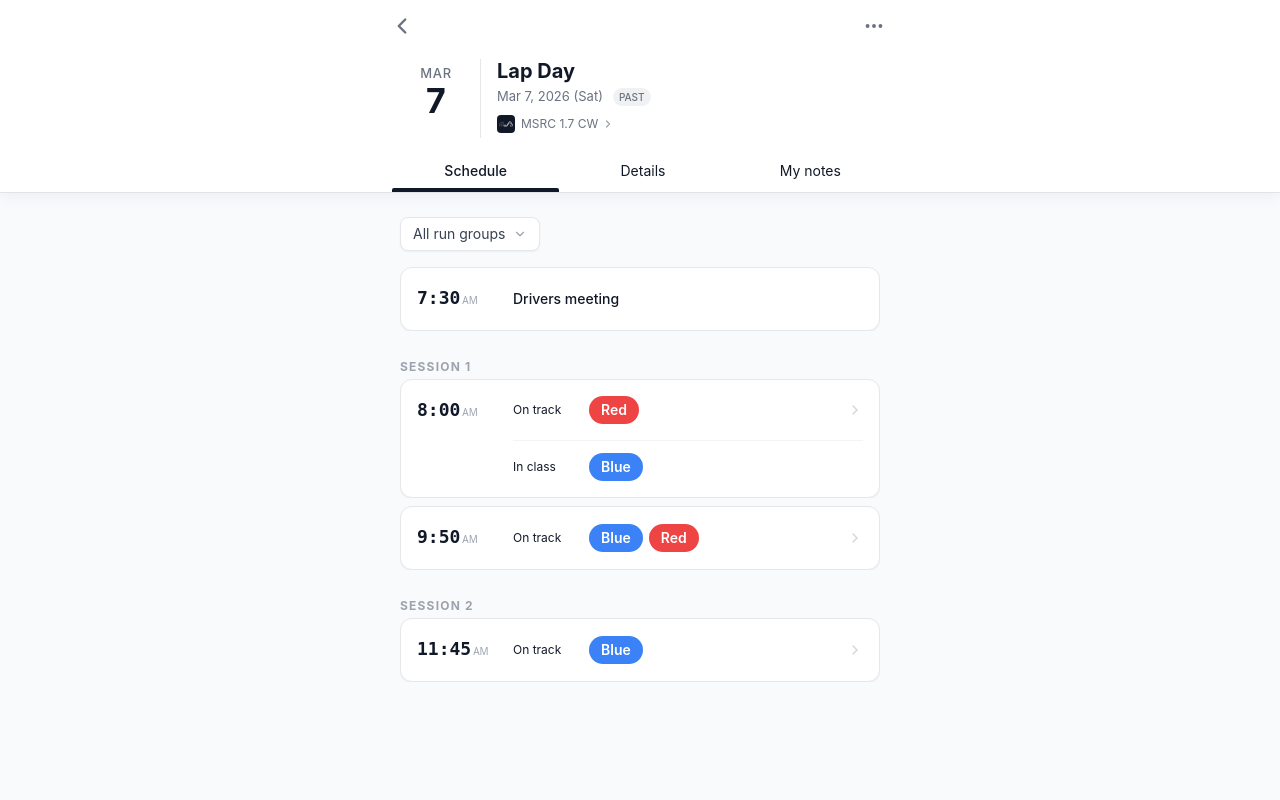
Test case: lap times (#210) › keeps the sheet open with the reason when a save fails
This screenshot has width=1280, height=800.
Click the button with aria-label "Lap times: 11:45 AM, Blue".
click(537, 650)  # box [507, 629, 869, 671]
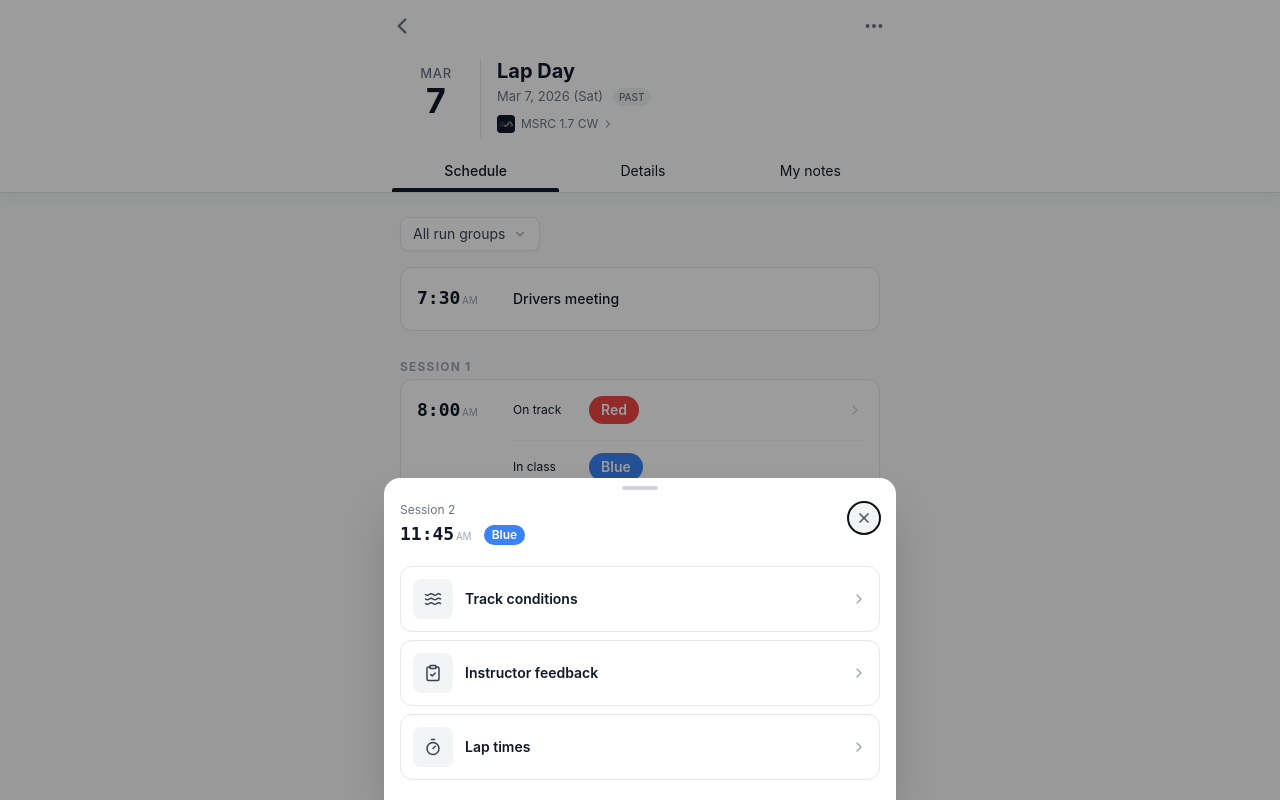
Click the button "Lap times".
click(433, 747)  # box [400, 714, 880, 780]
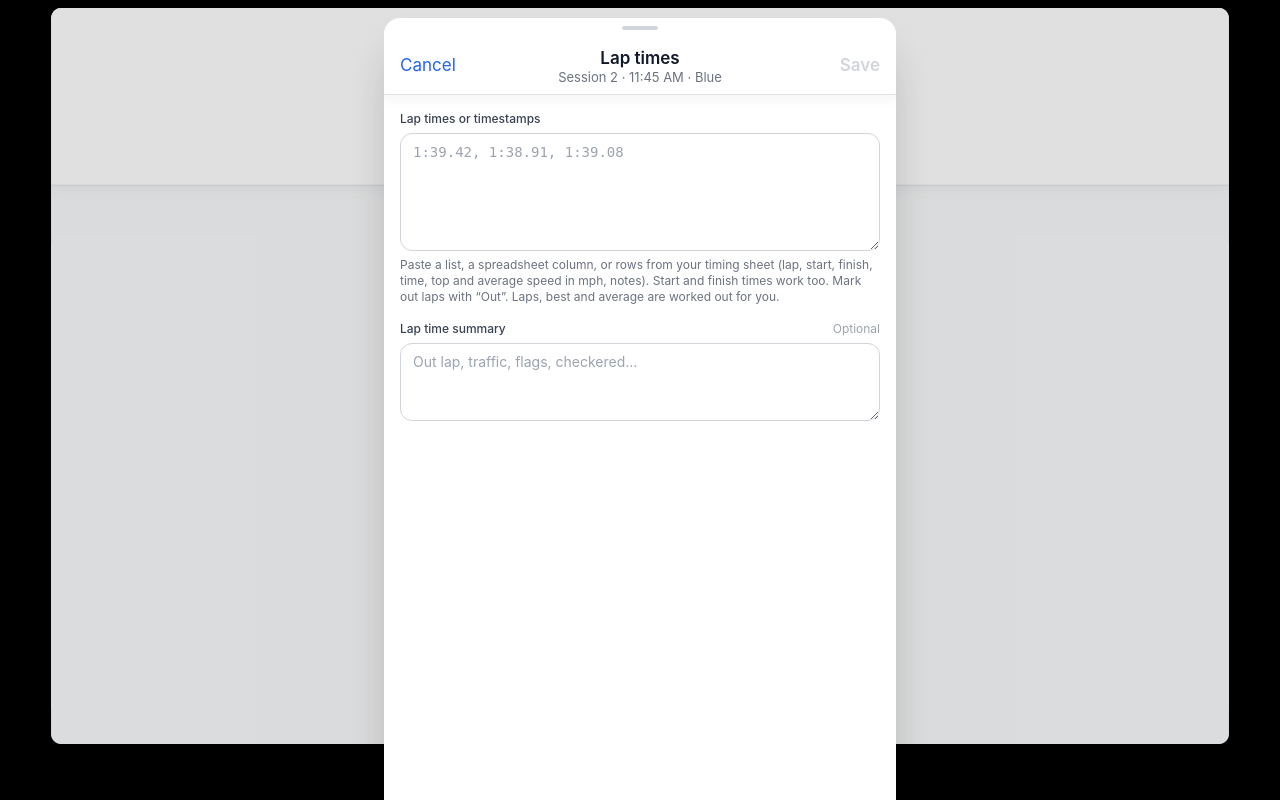
expect the element that starts with "Cancel" is shown: met, box [384, 38, 896, 799]
Type "1:44" into the text box labelled "Lap times or timestamps".
click(640, 192); type("1:44")  # box [400, 133, 880, 251]
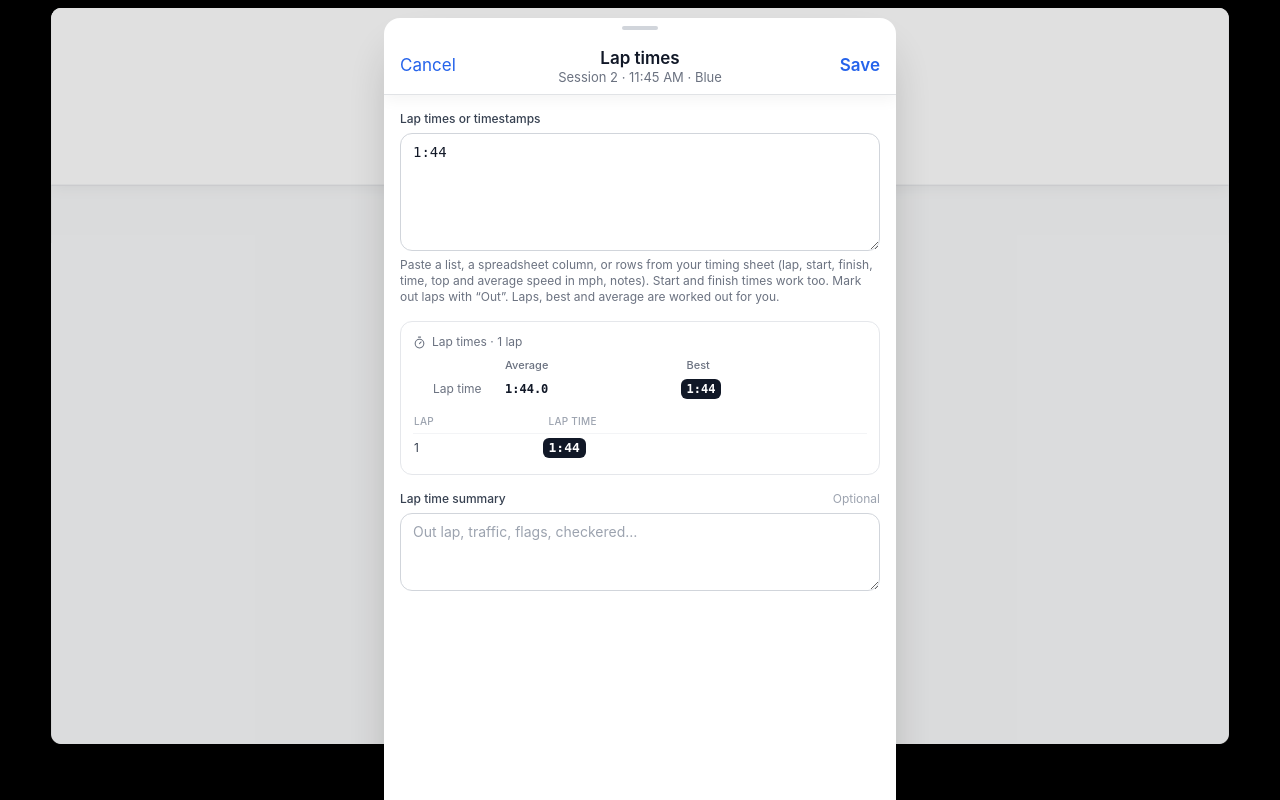
Click the button "Save".
click(860, 66)  # box [832, 45, 888, 87]
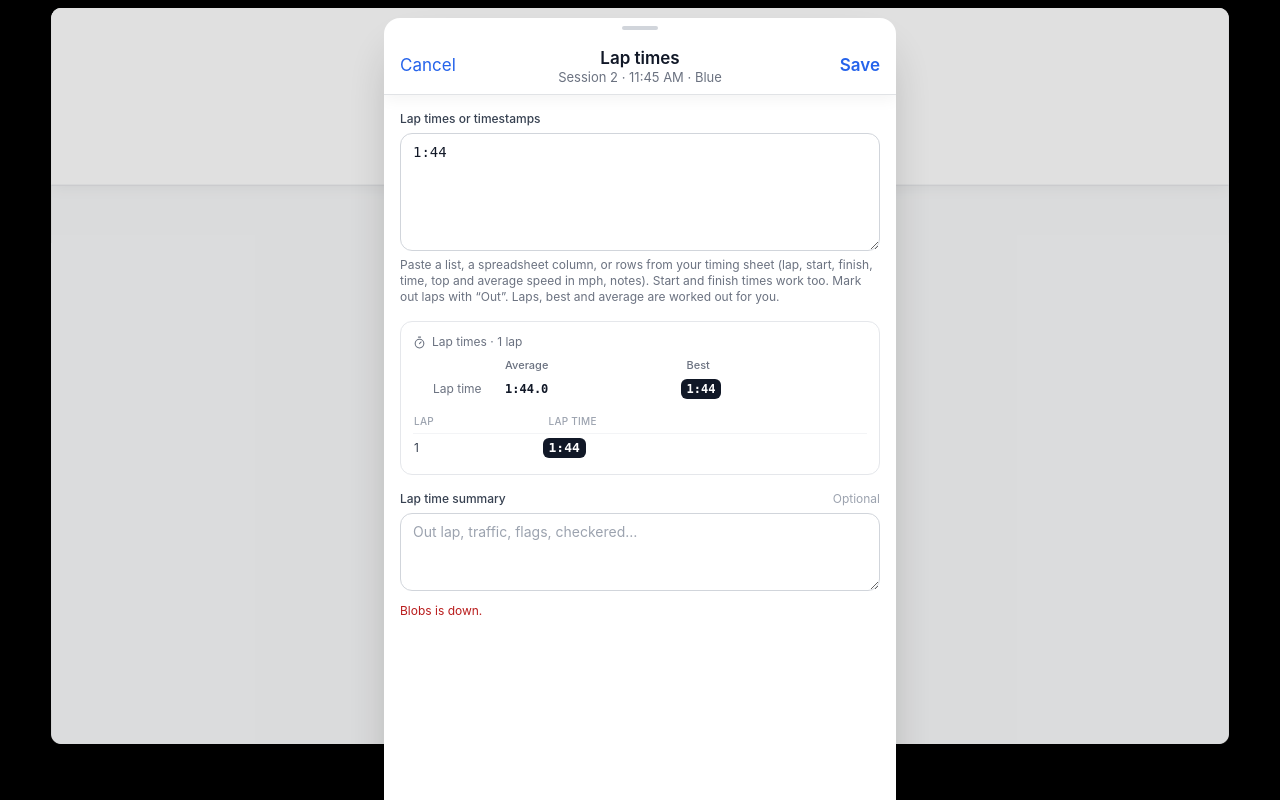
expect the message reads "Blobs is down.": met, box [400, 603, 482, 618]
